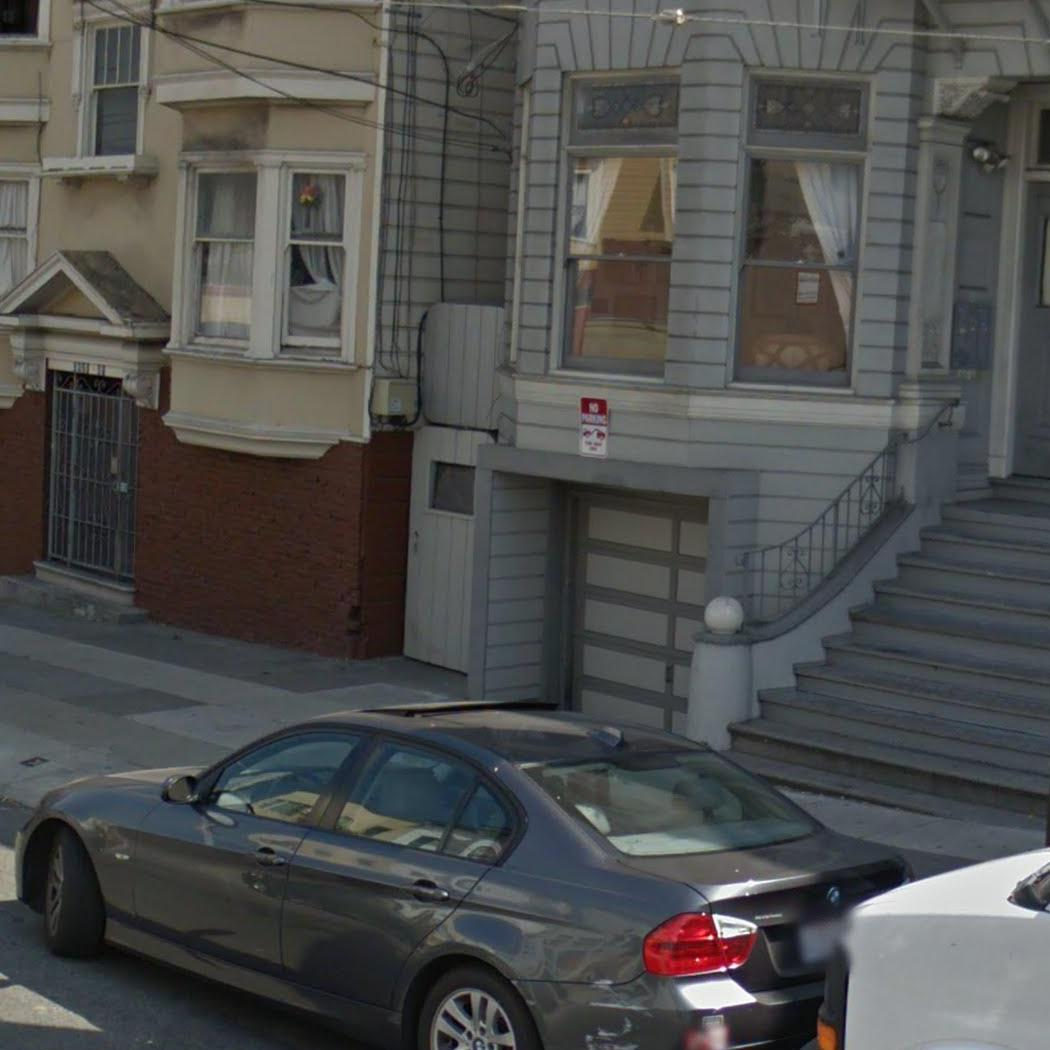No Parking Anytime: (576, 394, 611, 461)
